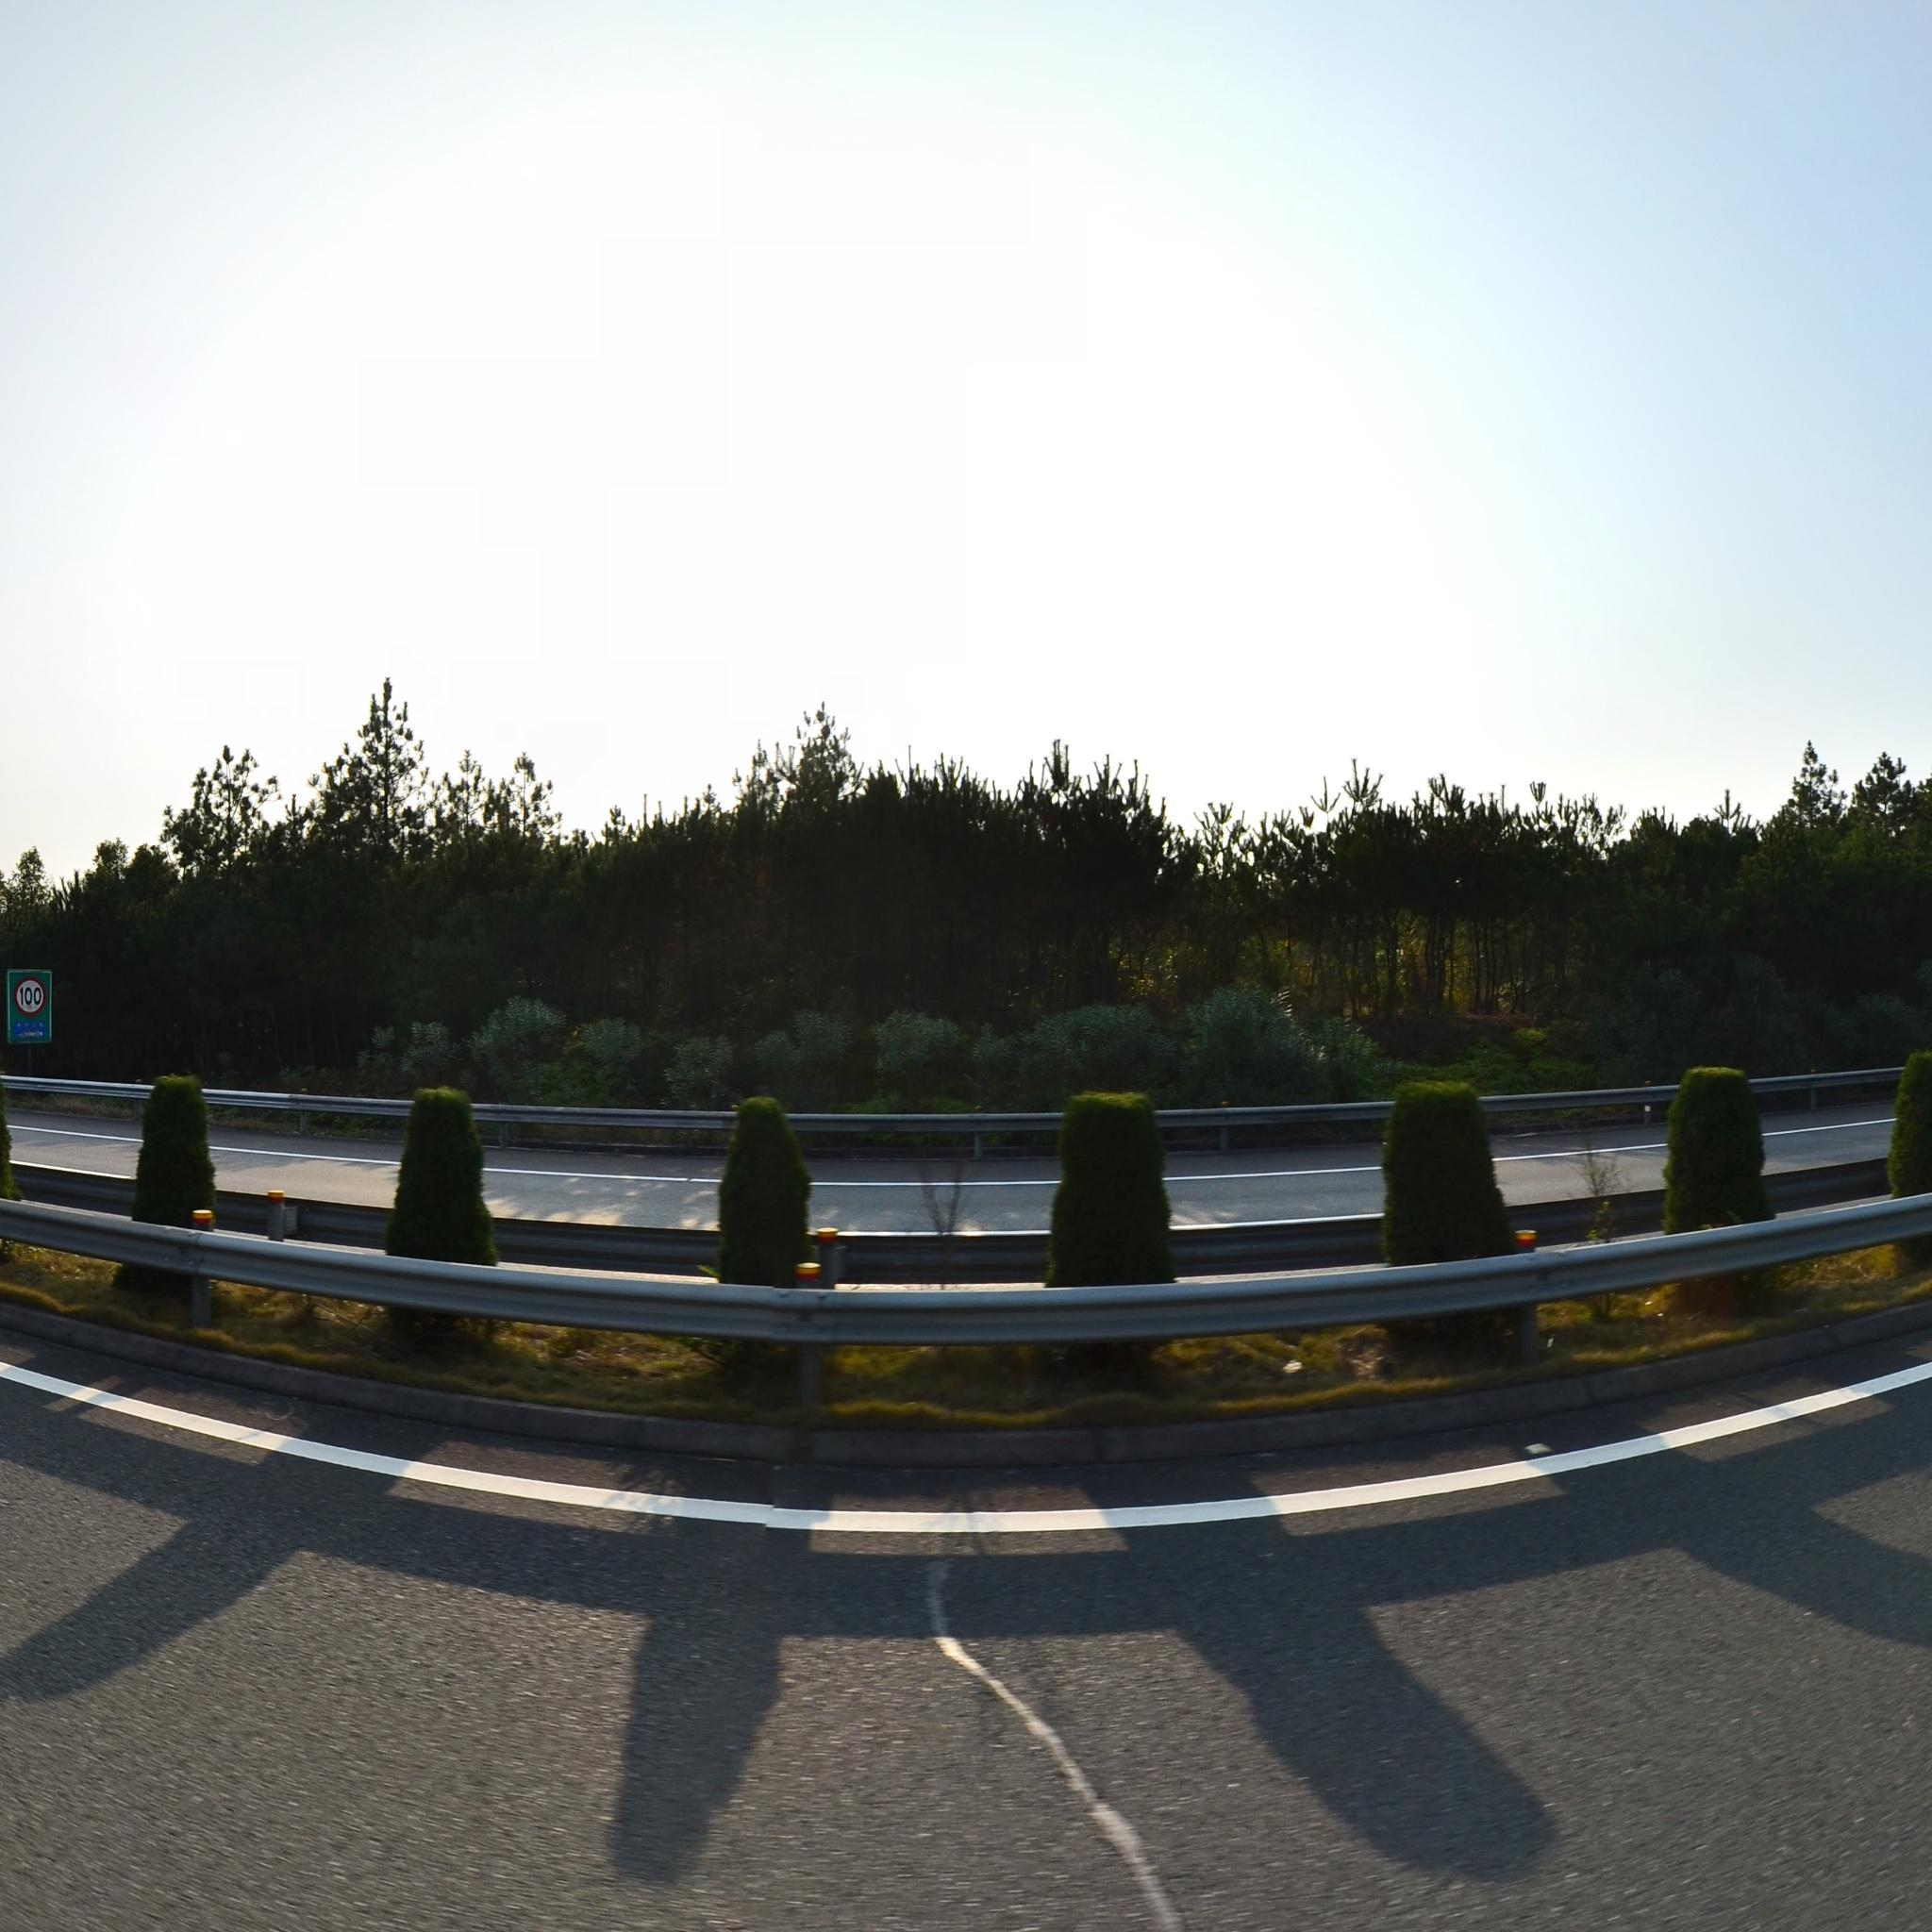pl100: (14, 978, 46, 1016)
